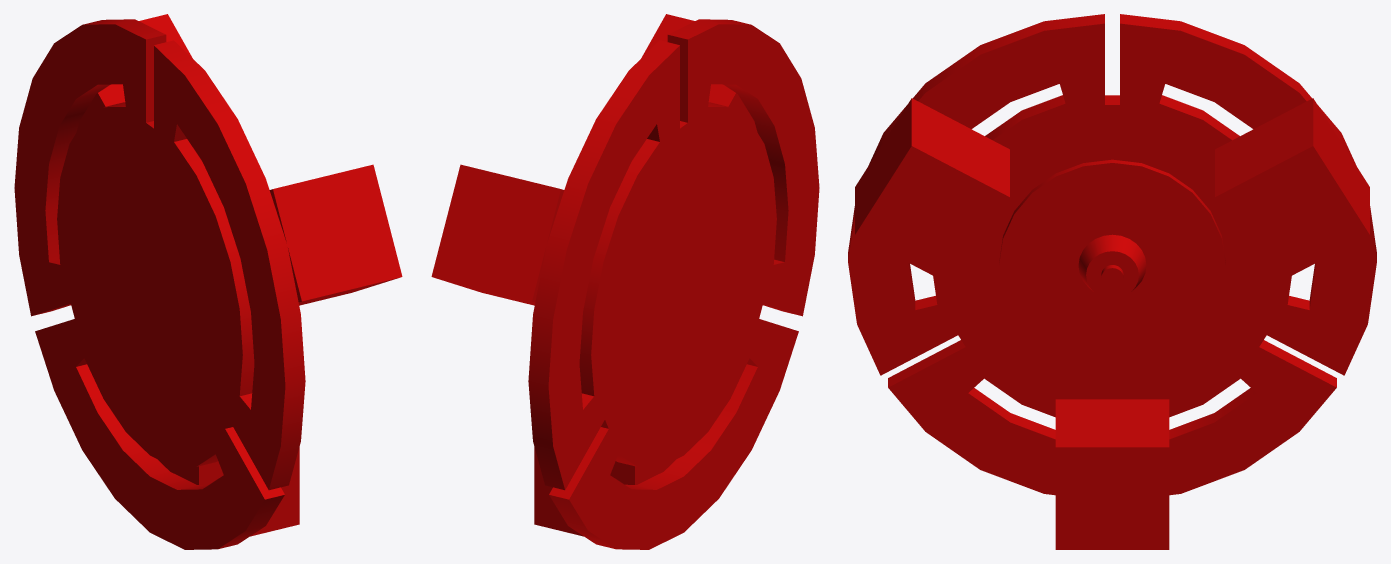
Rendered from tool_holder.dae.
3 renders of one model, left to right at view 1: azimuth 30°, elevation 25°; view 2: azimuth 150°, elevation 25°; view 3: azimuth 270°, elevation 25°, orthographic. The views are drawn at different scales.
Parts seen in each view (by area): view 1: Drehscheibe (×4), Werkzeugaufnahme (×3); view 2: Drehscheibe (×4), Werkzeugaufnahme (×3); view 3: Drehscheibe (×6), Werkzeugaufnahme (×3).
Part boxes in pixels (<box>): Drehscheibe (×4): <box>14,19,305,549</box>; Werkzeugaufnahme (×3): <box>76,14,402,536</box>; Drehscheibe (×4): <box>528,19,819,549</box>; Werkzeugaufnahme (×3): <box>431,14,757,536</box>; Drehscheibe (×6): <box>848,14,1376,495</box>; Werkzeugaufnahme (×3): <box>855,98,1369,549</box>.
Size of the model in its own units: 0.7087 by 2.76 by 2.75.
